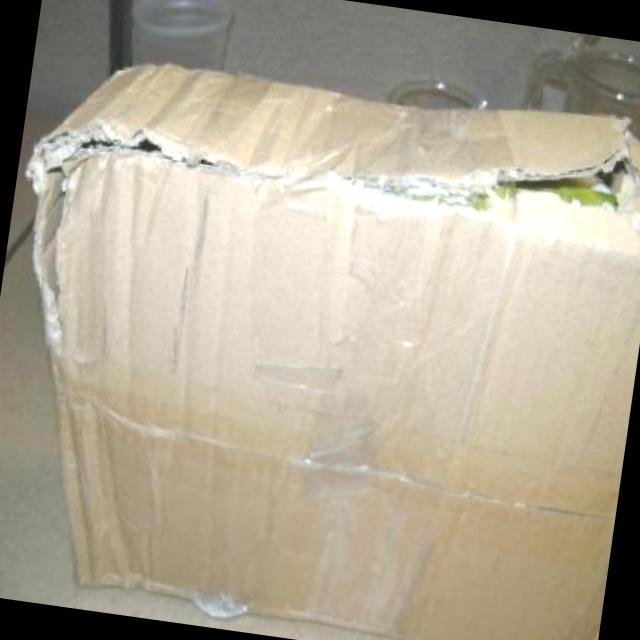crushed: (80, 223, 640, 602)
tear: (326, 142, 640, 219), (79, 127, 260, 184), (30, 139, 76, 347)
